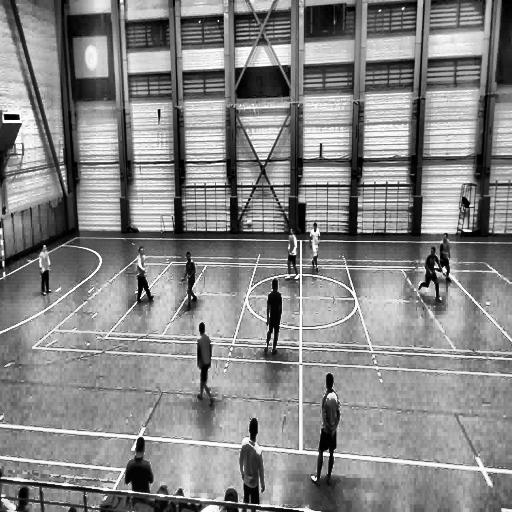ball: (247, 219, 252, 227)
player: (310, 374, 338, 486), (239, 418, 263, 509), (196, 321, 214, 405), (416, 246, 442, 303), (265, 279, 282, 356), (134, 244, 154, 304), (184, 250, 198, 310), (37, 244, 52, 296), (287, 227, 299, 280), (439, 232, 451, 283), (309, 222, 320, 274)
